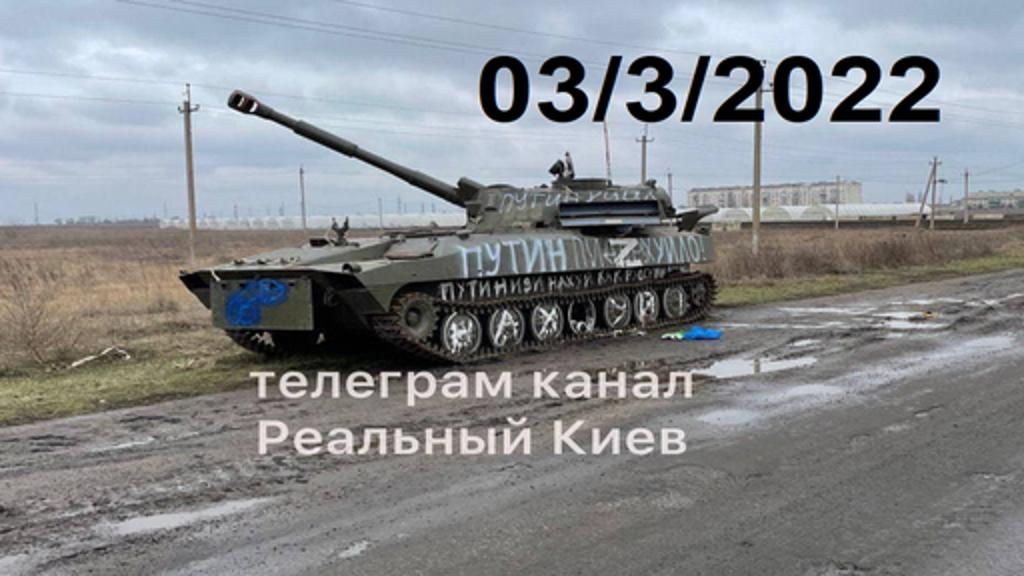ART: (174, 86, 720, 370)
